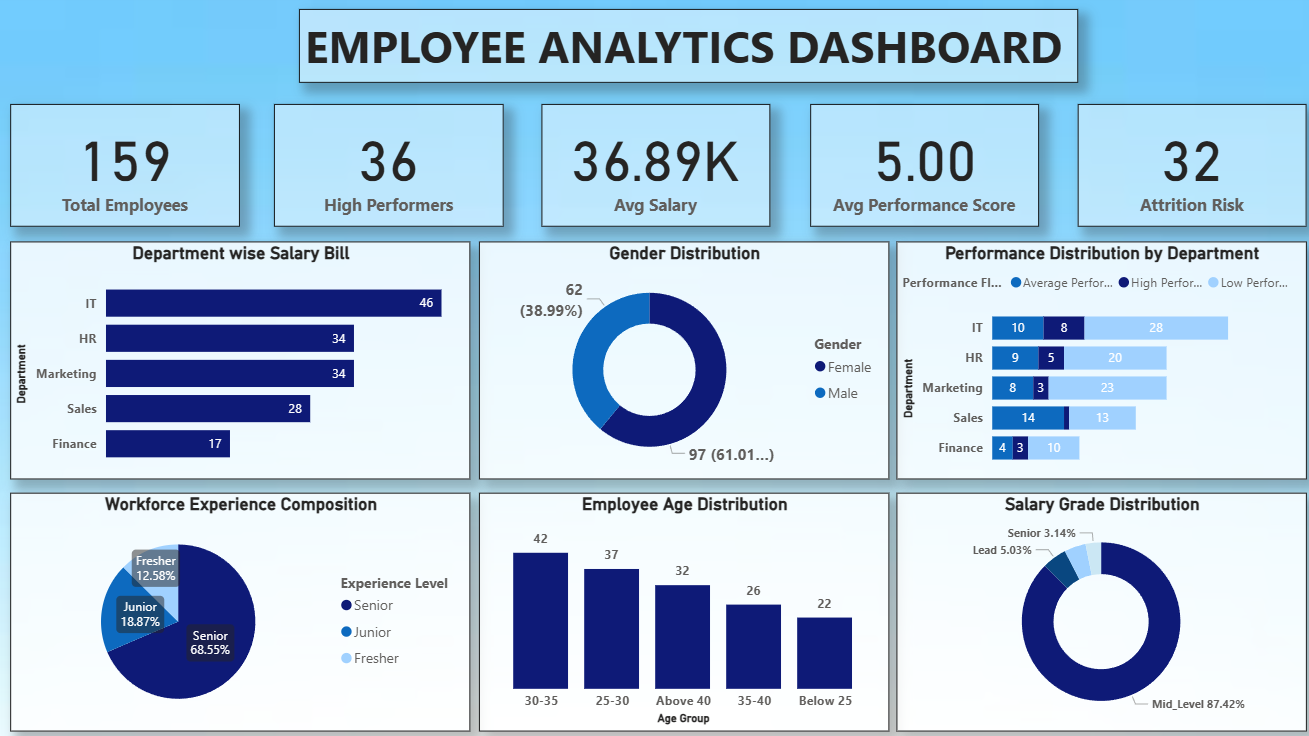

What the dashboard file says about the page in this screenshot:
{"tool":"powerbi","page":{"name":"Page 1","canvas":[1280,720],"ordinal":0},"visuals":[{"type":"card","fields":{"Values":["Cleaned_Employee_Dataset.Total Employees"]},"box":[15.7,106.2,222,118.2],"z":0},{"type":"card","fields":{"Values":["Cleaned_Employee_Dataset.Avg Salary"]},"box":[528.4,106.2,220.8,118.2],"z":1},{"type":"card","fields":{"Values":["Cleaned_Employee_Dataset.Avg Performance Score"]},"box":[787.8,106.2,220.8,118.2],"z":2},{"type":"card","fields":{"Values":["Cleaned_Employee_Dataset.Attrition Risk"]},"box":[1046,106.2,220.8,118.2],"z":3},{"type":"card","fields":{"Values":["Cleaned_Employee_Dataset.High Performers"]},"box":[270.2,106.2,222,118.2],"z":4},{"type":"clusteredBarChart","title":"Department wise Salary Bill","fields":{"Category":["Cleaned_Employee_Dataset.Department"],"Y":["Cleaned_Employee_Dataset.Total Employees"]},"box":[15.7,238.9,444,229.2],"z":5},{"type":"donutChart","title":"Gender Distribution","fields":{"Y":["Cleaned_Employee_Dataset.Total Employees"],"Category":["Cleaned_Employee_Dataset.Gender"]},"box":[468.1,238.9,395.7,229.2],"z":6},{"type":"barChart","title":"Performance Distribution by Department","fields":{"Y":["Cleaned_Employee_Dataset.Total Employees"],"Category":["Cleaned_Employee_Dataset.Department"],"Series":["Cleaned_Employee_Dataset.Performance Flag"]},"box":[871.1,238.9,395.7,229.2],"z":7},{"type":"pieChart","title":"Workforce Experience Composition","fields":{"Y":["Cleaned_Employee_Dataset.Total Employees"],"Category":["Cleaned_Employee_Dataset.Experience Level"]},"box":[15.7,481.4,444,230.4],"z":8},{"type":"clusteredColumnChart","title":"Employee Age Distribution","fields":{"Y":["Cleaned_Employee_Dataset.Total Employees"],"Category":["Cleaned_Employee_Dataset.Age Group"]},"box":[468.1,481.4,395.7,230.4],"z":9},{"type":"donutChart","title":"Salary Grade Distribution","fields":{"Y":["Cleaned_Employee_Dataset.Total Employees"],"Category":["Cleaned_Employee_Dataset.Salary_Grade"]},"box":[871.1,481.4,395.7,230.4],"z":10},{"type":"textbox","box":[294.4,14.5,751.6,71.2],"z":11}]}

Visuals, with their boxes in screenshot pixels (x1, y1, x2, y2), scaled from the page's 1280x720 canvas onto the 1309x736 screenshot:
card - Cleaned_Employee_Dataset.Total Employees: 16 109 243 229
card - Cleaned_Employee_Dataset.Avg Salary: 540 109 766 229
card - Cleaned_Employee_Dataset.Avg Performance Score: 806 109 1031 229
card - Cleaned_Employee_Dataset.Attrition Risk: 1070 109 1296 229
card - Cleaned_Employee_Dataset.High Performers: 276 109 503 229
"Department wise Salary Bill" clusteredBarChart: 16 244 470 479
"Gender Distribution" donutChart: 479 244 883 479
"Performance Distribution by Department" barChart: 891 244 1296 479
"Workforce Experience Composition" pieChart: 16 492 470 728
"Employee Age Distribution" clusteredColumnChart: 479 492 883 728
"Salary Grade Distribution" donutChart: 891 492 1296 728
textbox: 301 15 1070 88
